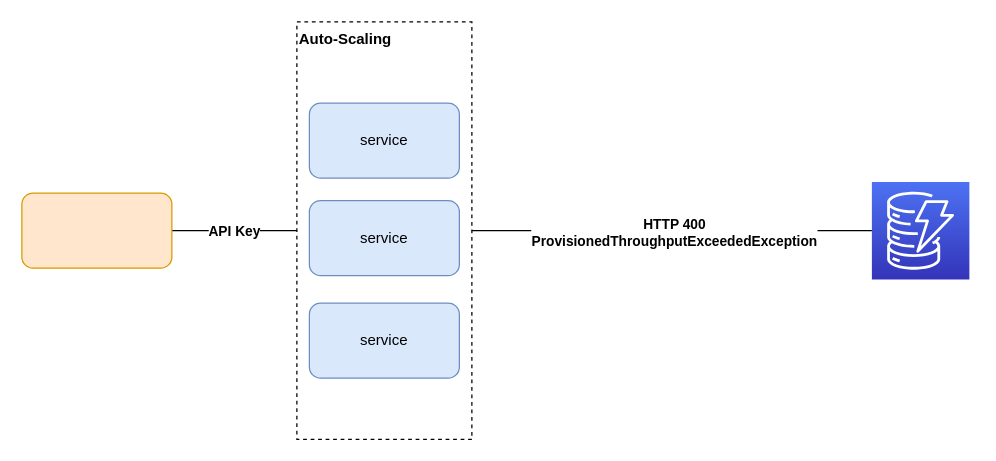
This 996x461 diagram has some shape labels left out. The centre of each missing label's shape, as x and y in pixels:
clients: point 96,230
RCU min = 40 RCU max = 400: point 920,230
